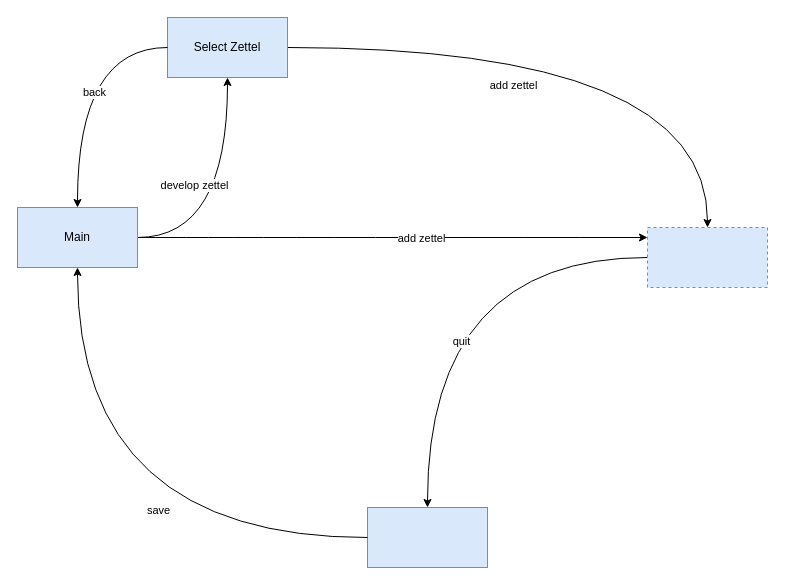
Image size: 785x585. Some labels were removed from this diagram. Each missing label, with the centre of its shape:
Neovim B uffer: (x=707, y=257)
Save Options: (x=427, y=537)
